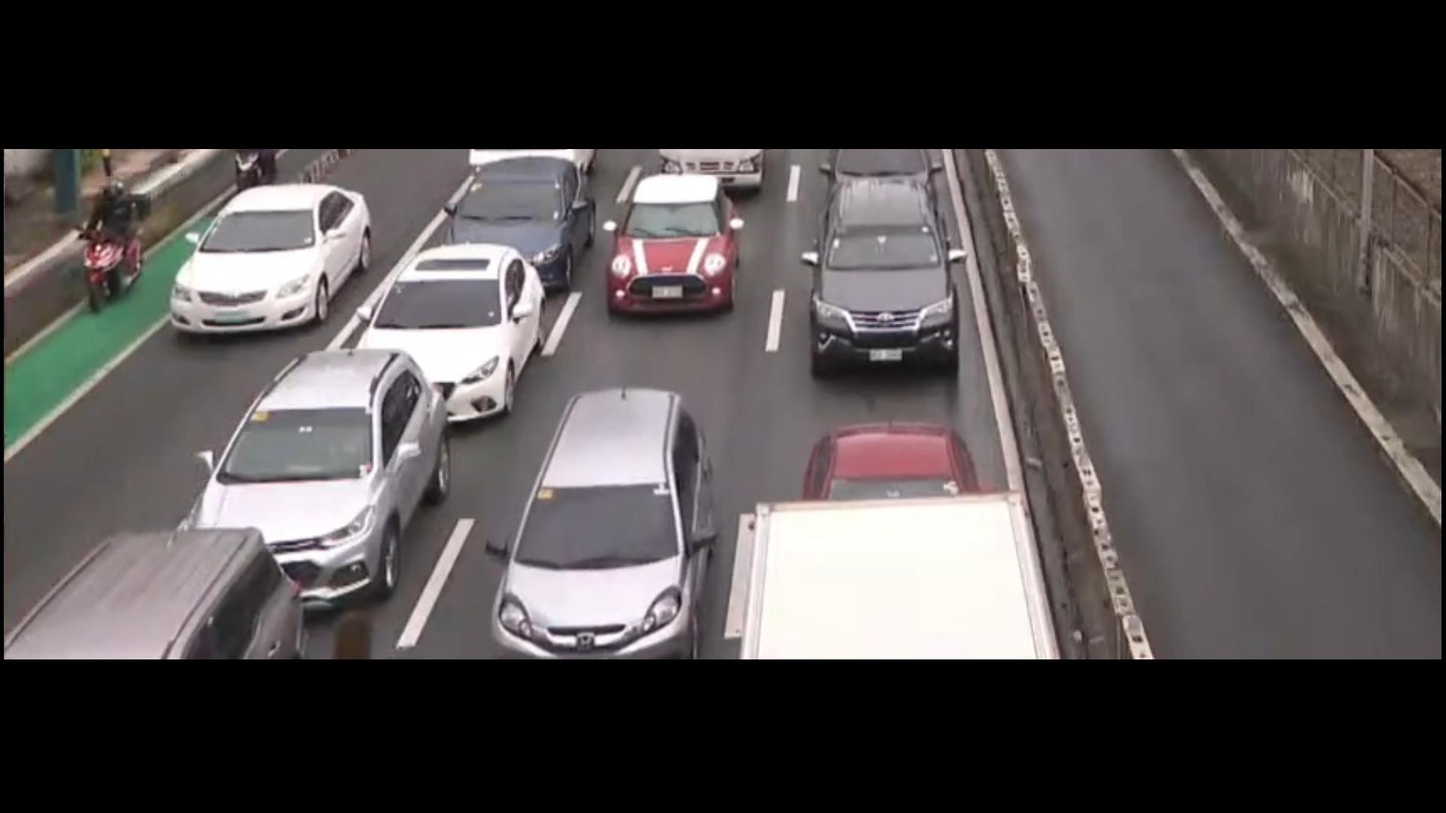Motorcycle: (68, 169, 149, 316)
SUV: (181, 348, 448, 597), (486, 390, 708, 655), (0, 533, 333, 657), (791, 181, 979, 382), (644, 523, 670, 527)
Sedan: (164, 188, 373, 333), (367, 241, 538, 406), (623, 175, 746, 316), (446, 162, 582, 284), (795, 414, 994, 497)
Truck: (723, 501, 1052, 661)
